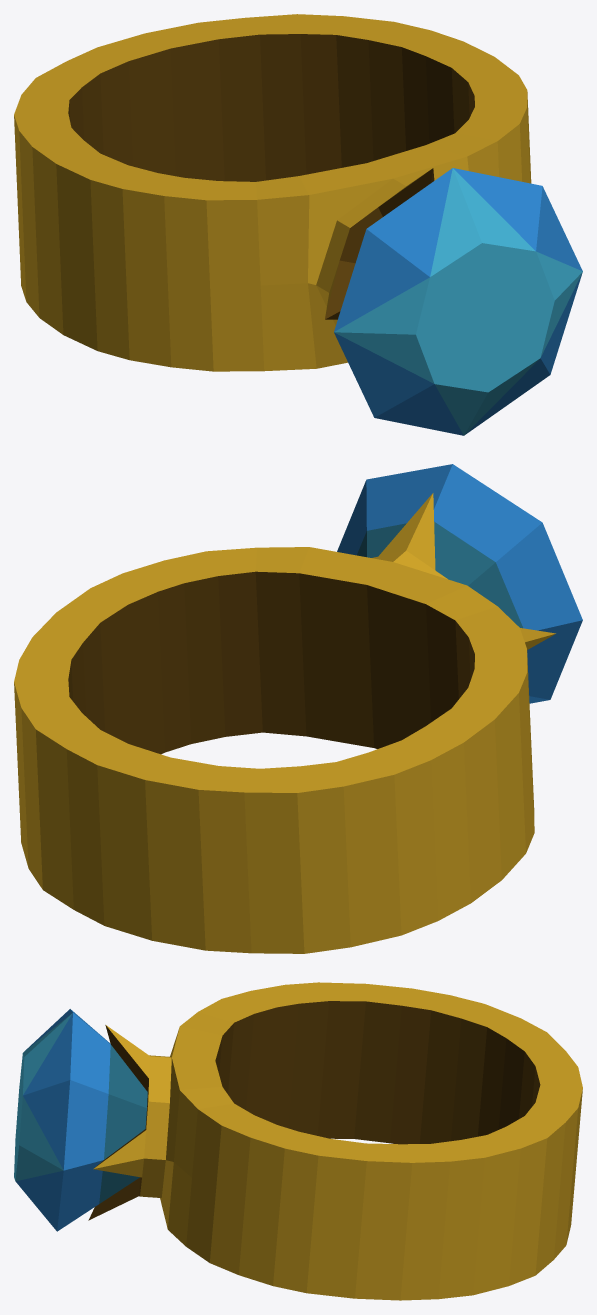
The model's file is ring.obj.
3 renders of one model, top to bottom at view 1: azimuth 30°, elevation 25°; view 2: azimuth 150°, elevation 25°; view 3: azimuth 270°, elevation 25°, orthographic. The views are drawn at different scales.
Visible parts, largest first — view 1: Circle; view 2: Circle; view 3: Circle.
Boxes of the visible parts, x1,y1,x2,y2 form: Circle: (14, 14, 582, 435); Circle: (14, 464, 582, 953); Circle: (14, 982, 582, 1300).
Bounding box in the file's own units: 0.5476 × 0.31 × 0.7428.
